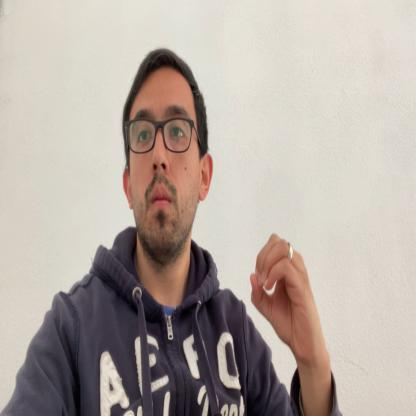O: (249, 230, 320, 370)
